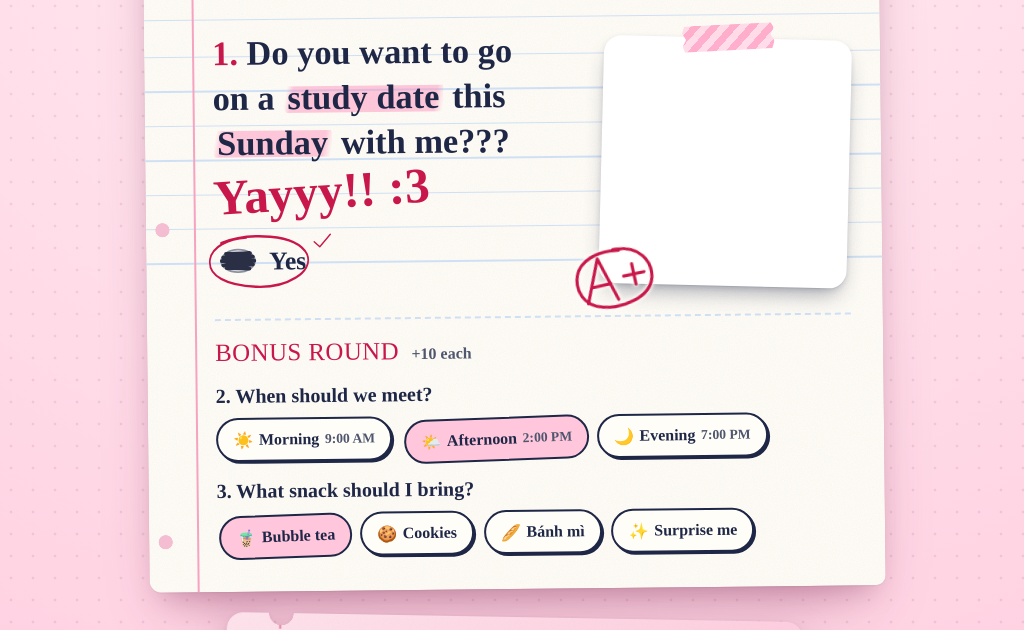
Test: Quiz › renders a server-side answer finished, and retakes from a clean sheet
The image size is (1024, 630).
expect the text "Yayyy!! :3" is shown: met, box [212,157,431,226]
Step 1. Click the radio button labelled "🌙 Evening 7:00 PM" → click(682, 435), box [596,412,768,458]
(page scrolled)
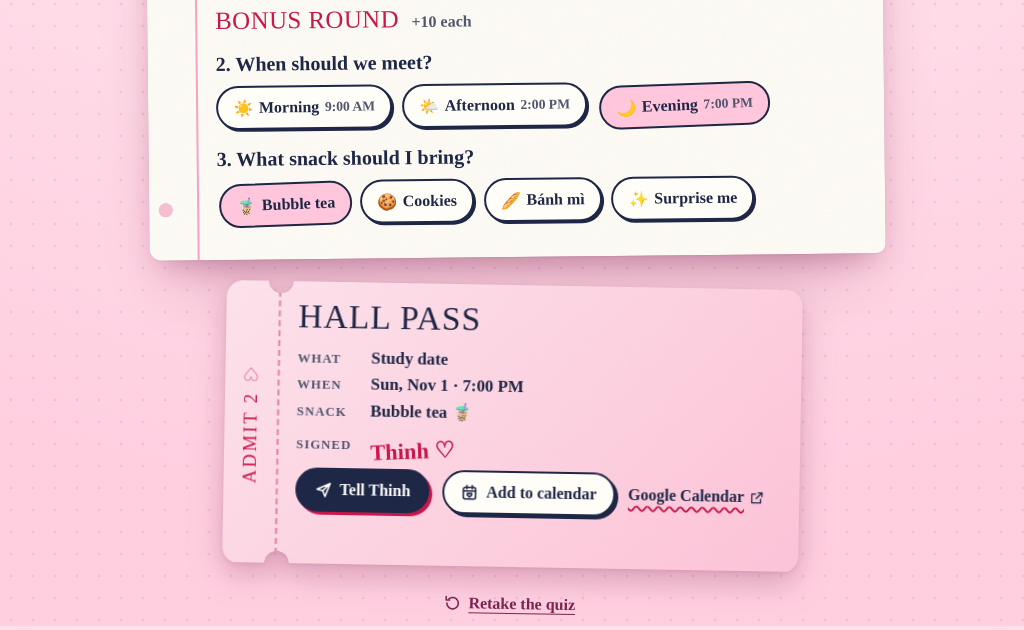
Step 2. Click the button "Retake the quiz" → click(509, 604), box [431,581,588,628]
(page scrolled)
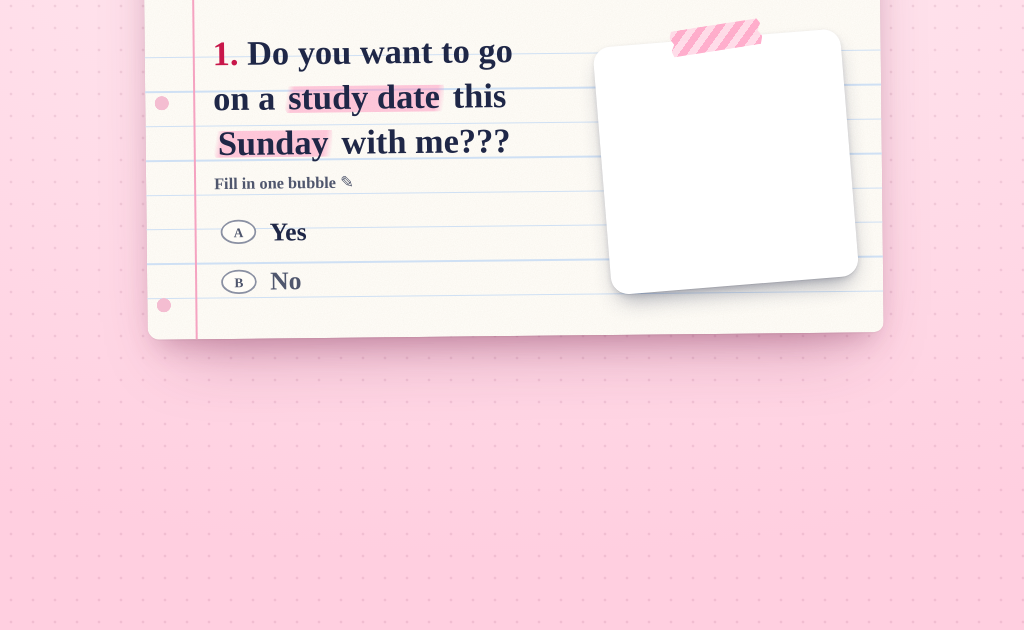
expect the button "B No" is shown: met, box [215,259,316,304]
